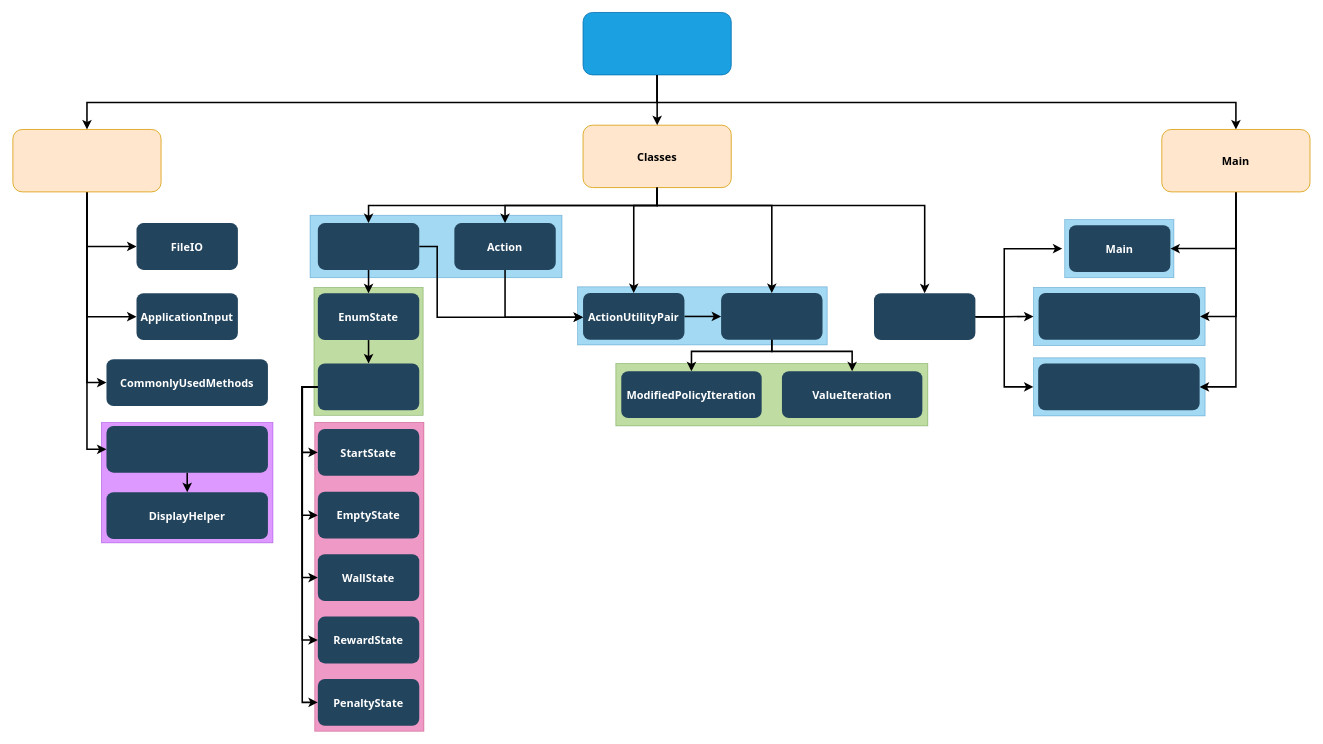
This 1323x744 diagram has some shape labels left out. The shapes that lost their labels are listed below. From the top down, each one's box as (x1, y1, x2, y2) in pixels, then its label:
(582, 12, 731, 75): Src
(12, 129, 161, 192): Utils
(317, 223, 419, 269): States
(721, 293, 822, 339): Agents
(874, 293, 975, 340): GridWorld
(1038, 293, 1200, 339): ComplexGridWorldExperiment1
(317, 363, 419, 410): GridState
(1038, 363, 1199, 410): ComplexGridWorldExperiment2
(106, 425, 268, 472): AgentHelperMethods
